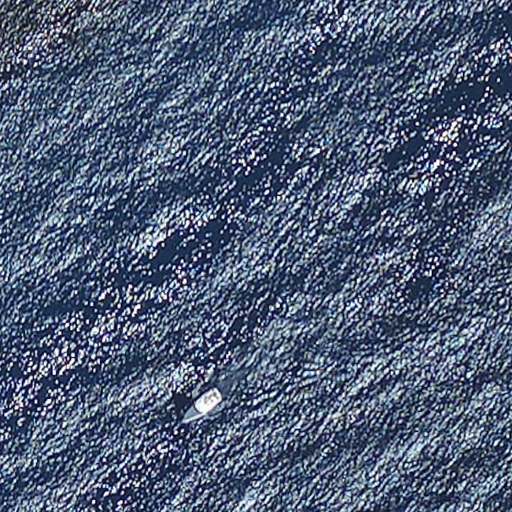ship: (177, 385, 224, 426)
